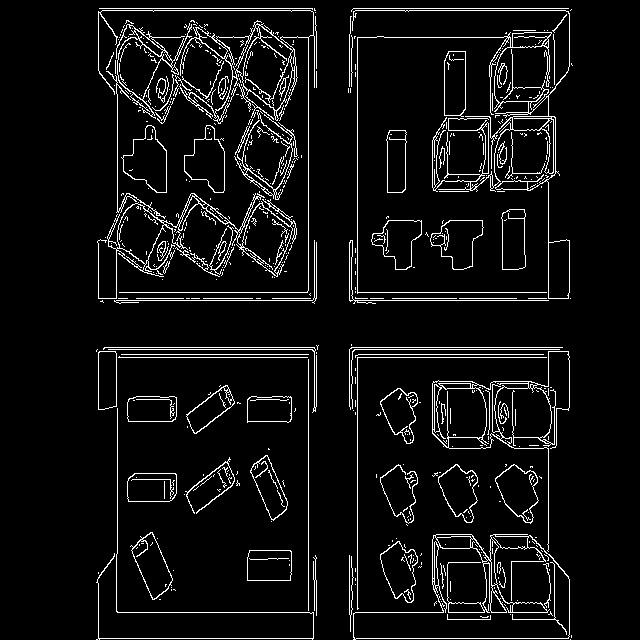Battery: (185, 458, 240, 513), (132, 533, 173, 599), (250, 455, 288, 521), (186, 385, 235, 434), (126, 472, 178, 502), (501, 209, 526, 270), (444, 51, 466, 116), (128, 395, 178, 422), (248, 550, 291, 581), (386, 131, 406, 194), (248, 396, 292, 422)
Pump: (102, 20, 179, 124), (175, 20, 238, 124), (238, 21, 296, 121), (108, 194, 175, 278), (490, 372, 560, 451), (490, 30, 555, 114), (236, 114, 298, 200), (236, 194, 296, 278), (424, 378, 493, 450), (176, 194, 235, 276), (492, 116, 556, 191), (432, 536, 490, 608), (432, 118, 489, 191), (494, 536, 548, 610)
Regulator: (360, 381, 420, 452), (373, 542, 432, 612), (364, 457, 424, 521), (487, 458, 540, 525), (430, 459, 480, 525)
Sensor: (121, 125, 168, 194), (184, 125, 225, 194), (430, 221, 484, 270), (371, 219, 422, 270)
